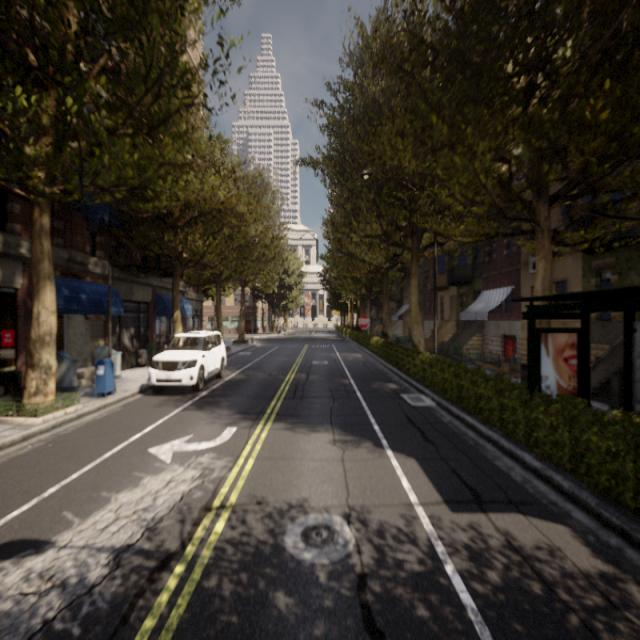stop sign: (356, 310, 370, 332)
